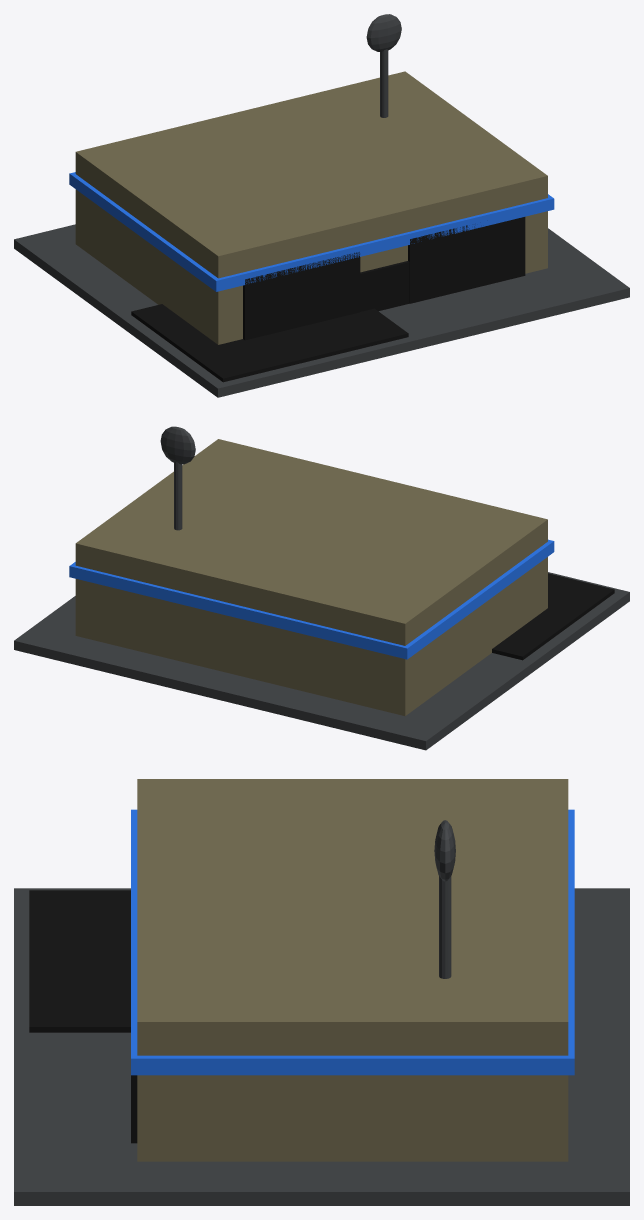
File: us_airbase.glb
3 renders of one model, top to bottom at view 1: azimuth 30°, elevation 25°; view 2: azimuth 150°, elevation 25°; view 3: azimuth 270°, elevation 25°, orthographic. The views are drawn at different scales.
Parts seen in each view (by area): view 1: main, base, pad, garage_1, garage_0, team_band, door, dish, mast; view 2: main, base, team_band, pad, dish, mast; view 3: main, base, pad, team_band, mast, dish.
Part boxes in pixels (x1,y1,x2,y2): main: (75, 71, 547, 344); base: (14, 224, 629, 397); pad: (131, 304, 408, 382); garage_1: (408, 217, 525, 303); garage_0: (243, 252, 360, 340); team_band: (69, 172, 554, 291); door: (360, 261, 409, 311); dish: (366, 14, 401, 51); mast: (380, 49, 388, 117); main: (75, 439, 547, 715); base: (14, 572, 629, 750); team_band: (69, 539, 554, 659); pad: (492, 573, 614, 660); dish: (160, 426, 195, 464); mast: (174, 461, 182, 530); main: (137, 779, 568, 1161); base: (14, 888, 629, 1205); pad: (29, 890, 130, 1032); team_band: (131, 809, 574, 1075); mast: (439, 876, 451, 978); dish: (434, 820, 455, 881).
Bounding box in the file's own units: 14 × 6.6 × 12.
